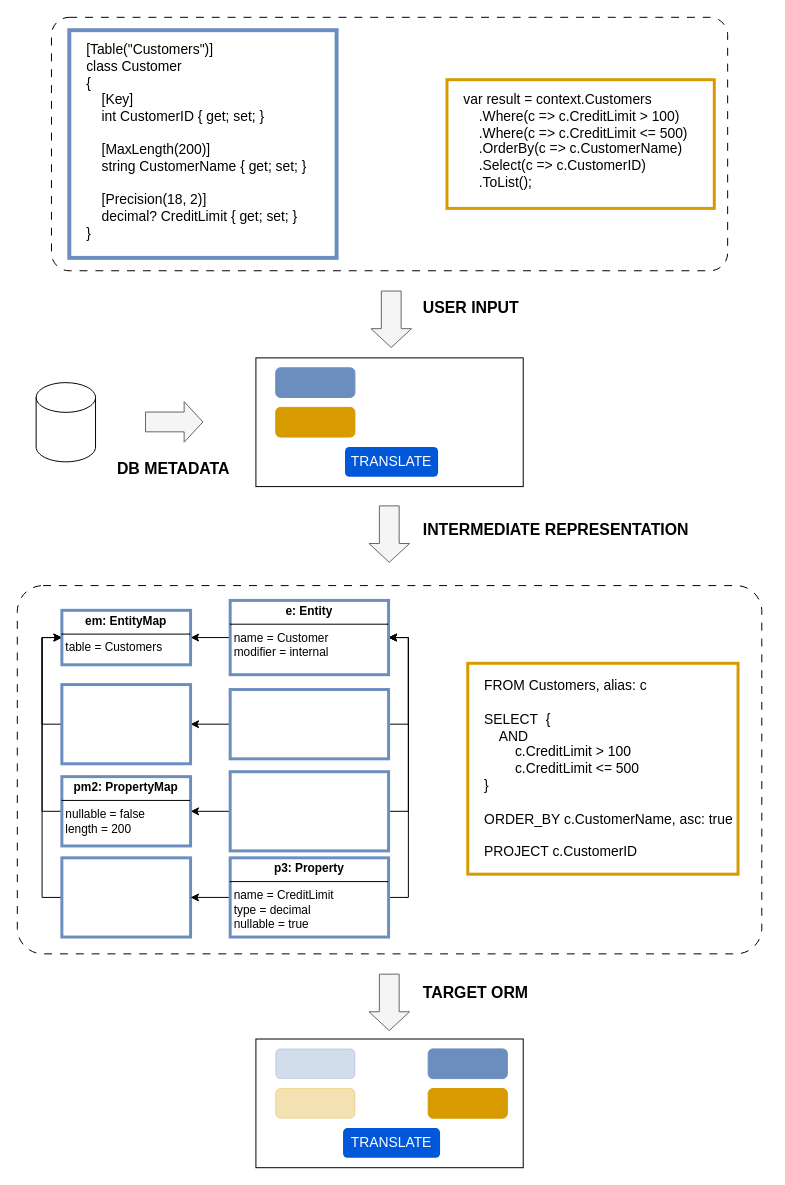
Some shapes in this 785 by 1185 pixel diagram are drawn without their labels. The centre of each missing label's shape, as x and y in pixels:
"p1: Property name = CustomerID type = int" goes at point (309, 724).
"p2: Property name = CustomerName type = string otherModifiers = [required]" goes at point (309, 811).
"pm1: PropertyMap nullable = false primaryKey = true strategy = Identity" goes at point (126, 724).
"pm3: PropertyMap nullable = true precision = 18 scale = 2" goes at point (126, 897).
